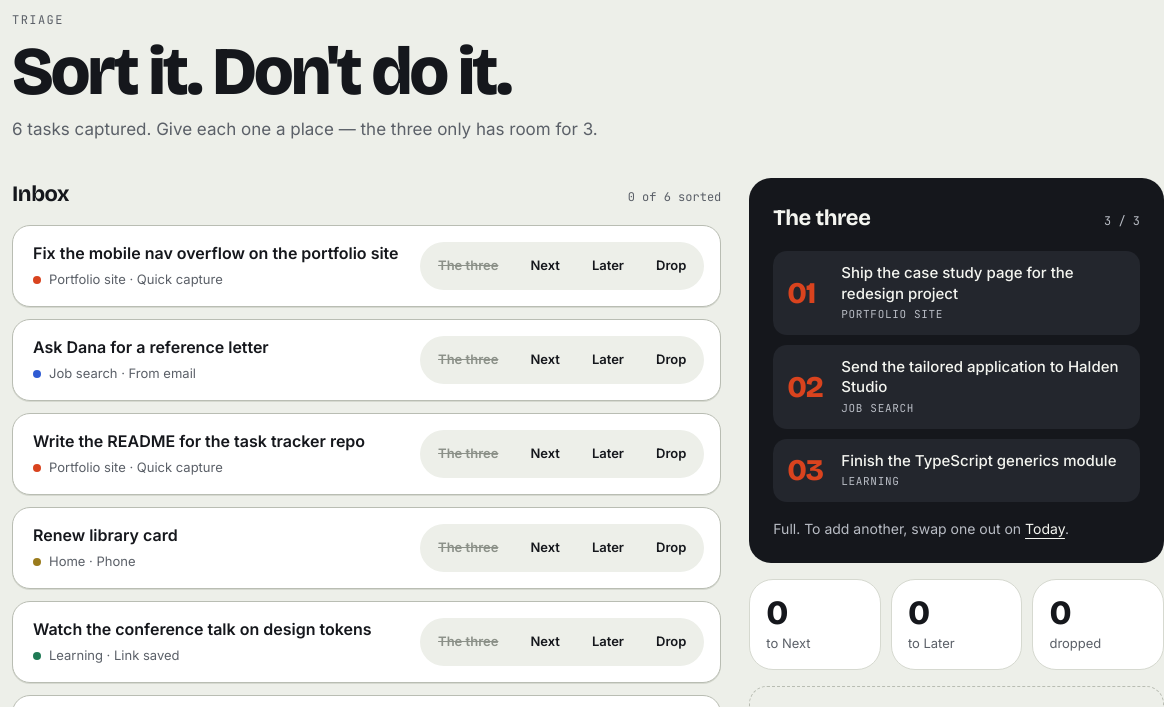
Scenario: Triage › sorts a task and keeps it on screen so you can change your mind
The image size is (1164, 707).
Click the button "Later" in the row of "Renew library card".
click(608, 548)  # box [578,528,638,568]
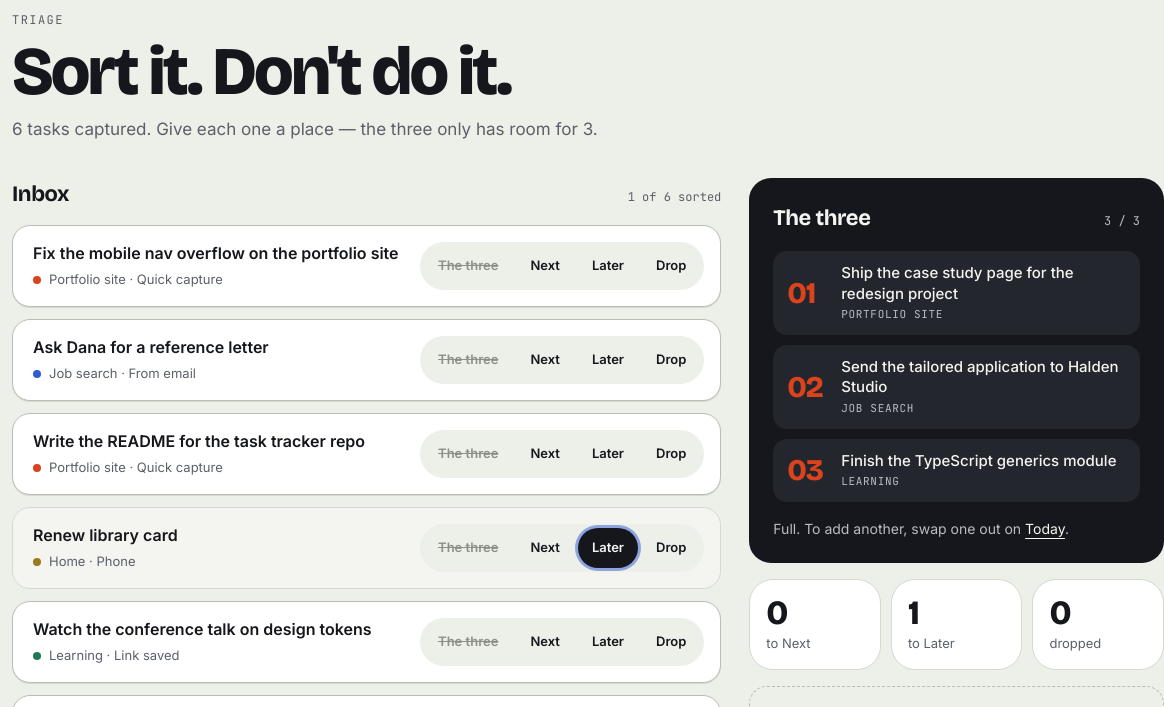
Expected: the text "1 of 6 sorted" is shown, [628,189,721,205]
Click the button "Next" in the row of "Renew library card".
click(545, 548)  # box [516,528,574,568]
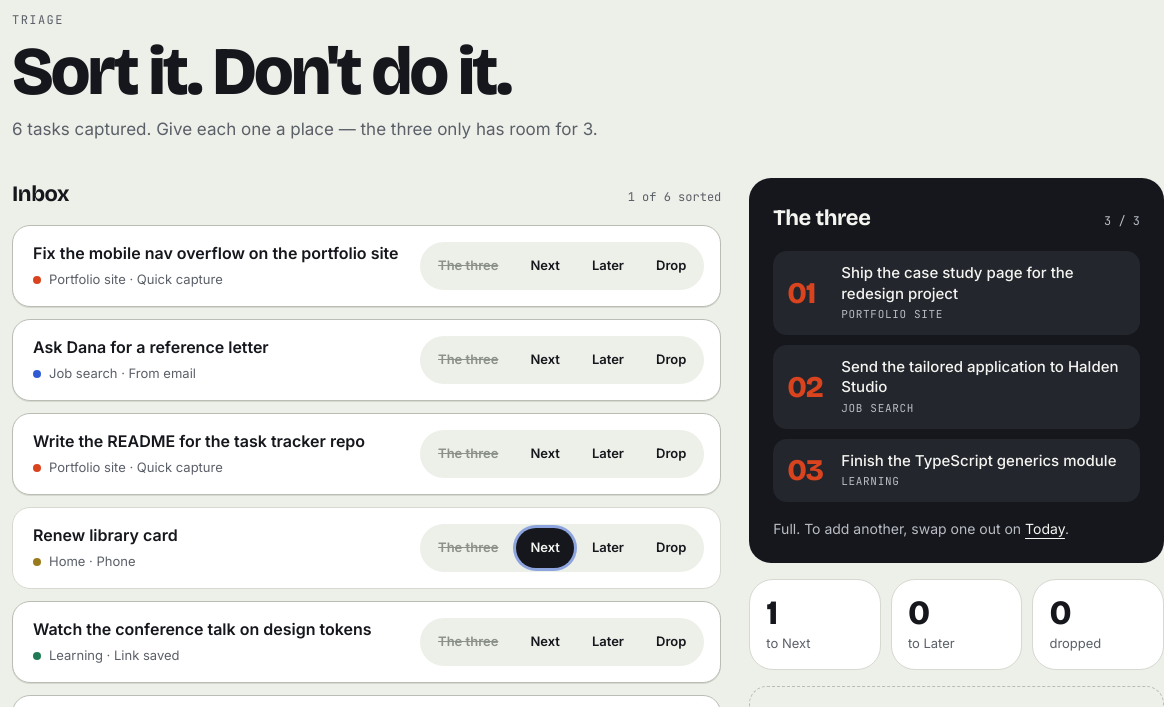
Note: Clicking the chosen place again sends it back to the inbox.
Click the button "Next" in the row of "Renew library card".
click(545, 548)  # box [516,528,574,568]
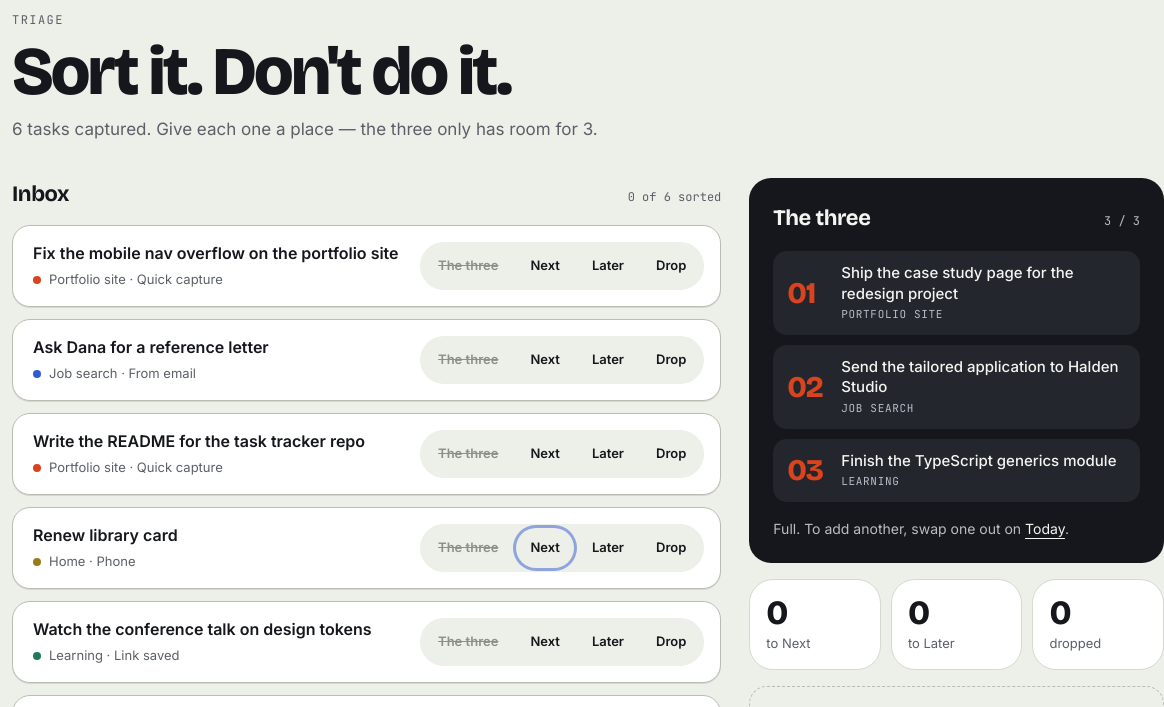
Expected: the text "0 of 6 sorted" is shown, [628,189,721,205]
